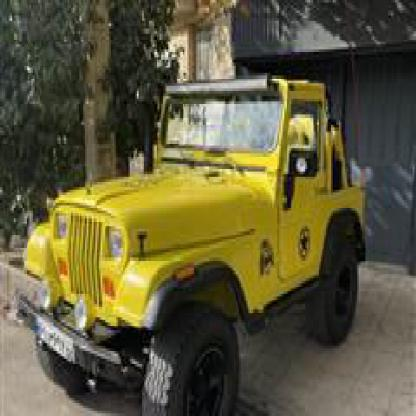car: (33, 67, 359, 414)
